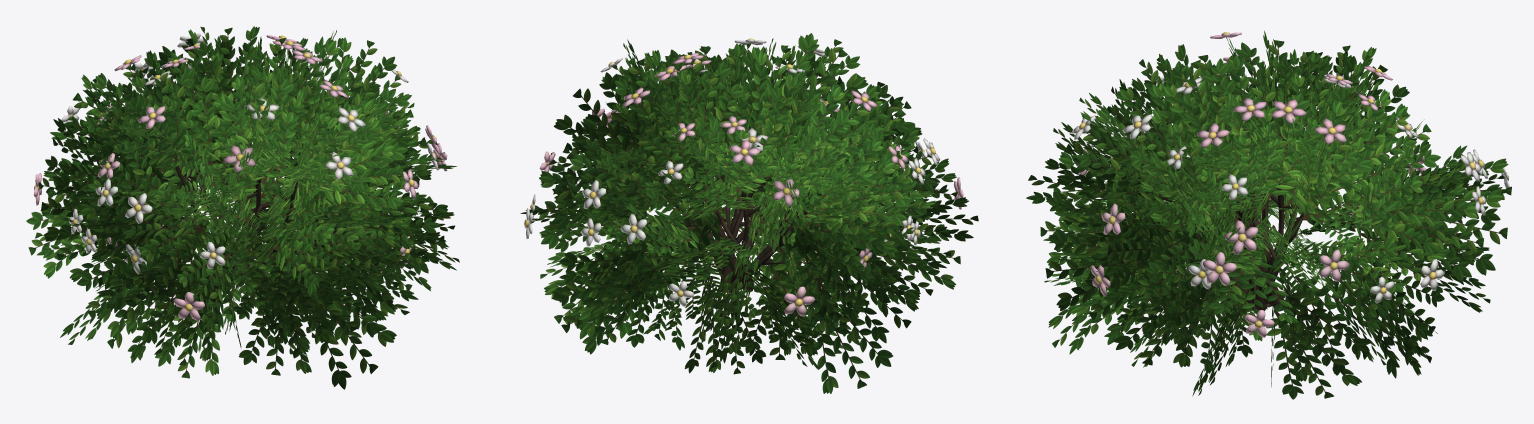
File: bush_flower.glb
3 renders of one model, left to right at view 1: azimuth 30°, elevation 25°; view 2: azimuth 150°, elevation 25°; view 3: azimuth 270°, elevation 25°, orthographic. The views are drawn at different scales.
Visible parts, largest first — view 1: bush_flower_leaves, bush_flower; view 2: bush_flower_leaves, bush_flower; view 3: bush_flower_leaves, bush_flower.
Part boxes in pixels (x1,y1,x2,y2): bush_flower_leaves: (26,26,459,389); bush_flower: (34,33,447,320); bush_flower_leaves: (520,33,978,393); bush_flower: (524,38,963,316); bush_flower_leaves: (1026,30,1511,399); bush_flower: (1072,32,1510,337).
Size of the model in its own units: 1.98 by 1.48 by 2.
2 materials, 2 textured.
